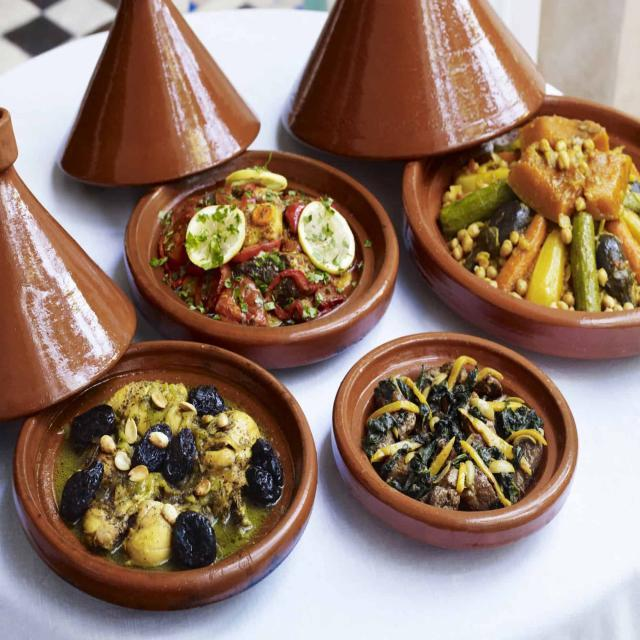Couscous: (409, 95, 640, 332)
